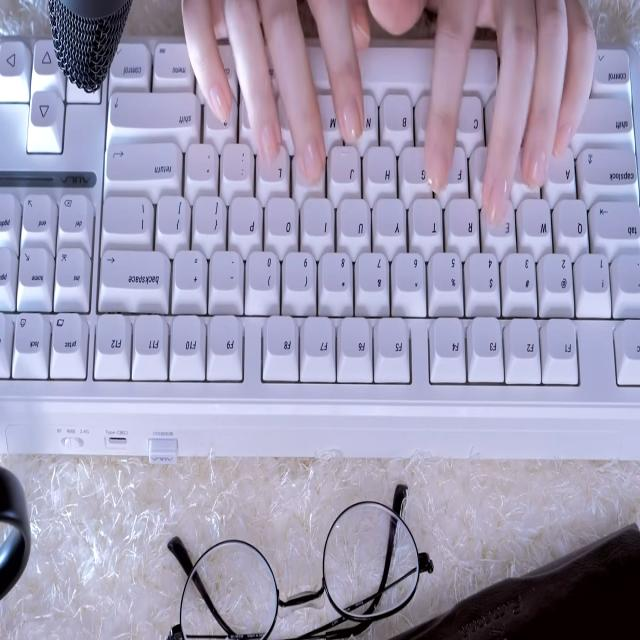keyboard-with-hands: (0, 37, 640, 406)
